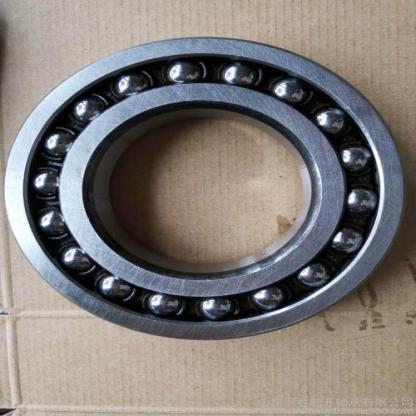FOD: (0, 34, 412, 342)
